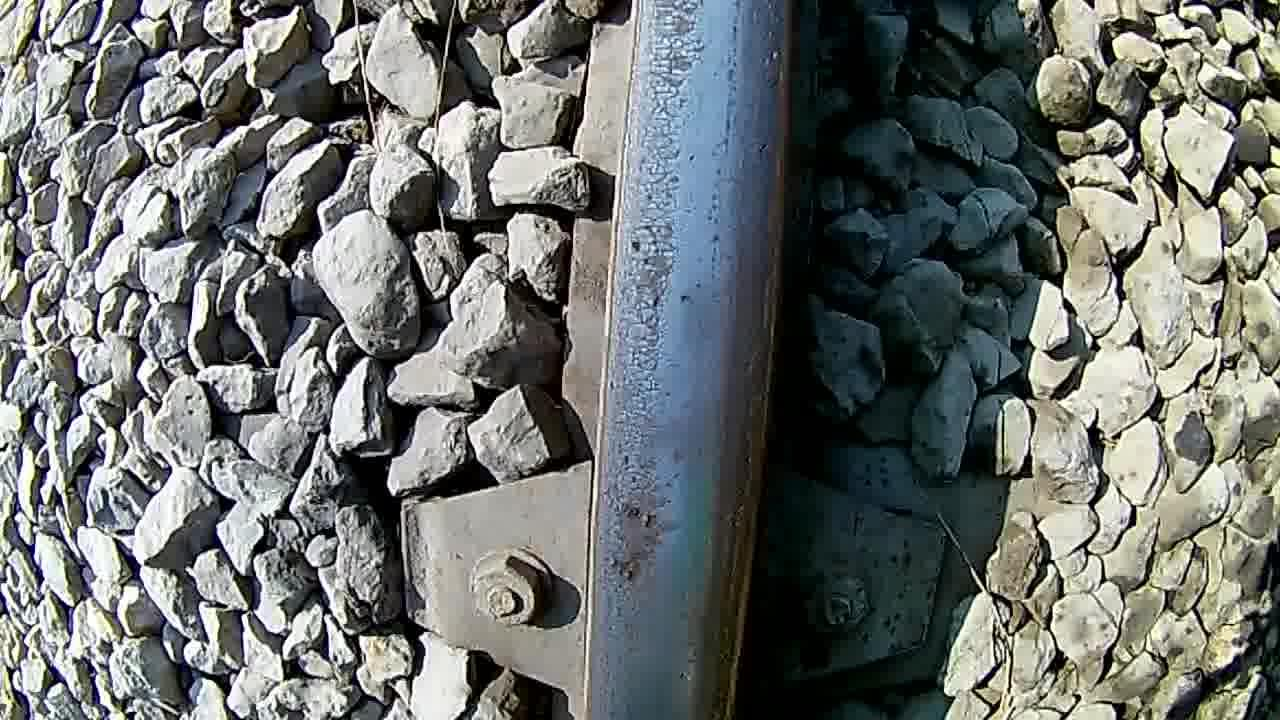crack: (596, 0, 762, 720)
